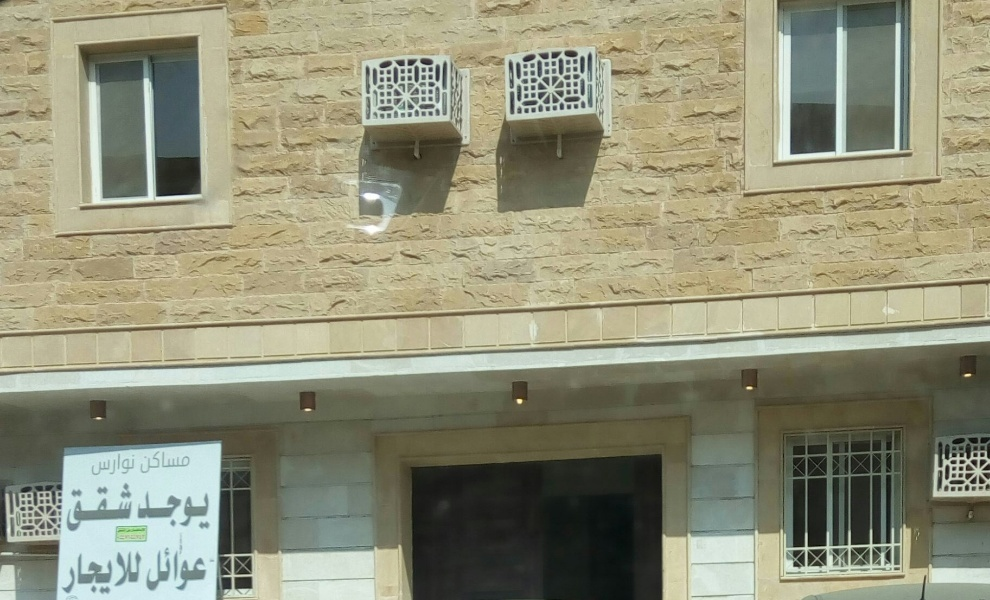text: (81, 482, 96, 533), (97, 482, 112, 533), (113, 482, 128, 533), (161, 544, 176, 592), (177, 544, 192, 592), (65, 550, 80, 595), (81, 550, 96, 595), (97, 550, 112, 595), (113, 550, 128, 595), (146, 544, 160, 592), (193, 544, 207, 592), (129, 550, 143, 595), (145, 491, 160, 529), (161, 491, 176, 529), (177, 491, 192, 529), (193, 491, 208, 529), (69, 482, 80, 533), (97, 450, 112, 477), (113, 450, 128, 477), (145, 450, 160, 474), (161, 450, 176, 474), (177, 450, 190, 474), (129, 482, 134, 533), (138, 491, 144, 529), (129, 527, 144, 540), (129, 450, 136, 477), (118, 527, 128, 540), (93, 450, 96, 477), (209, 491, 211, 529), (142, 450, 144, 474), (63, 550, 64, 595), (145, 527, 146, 540)
